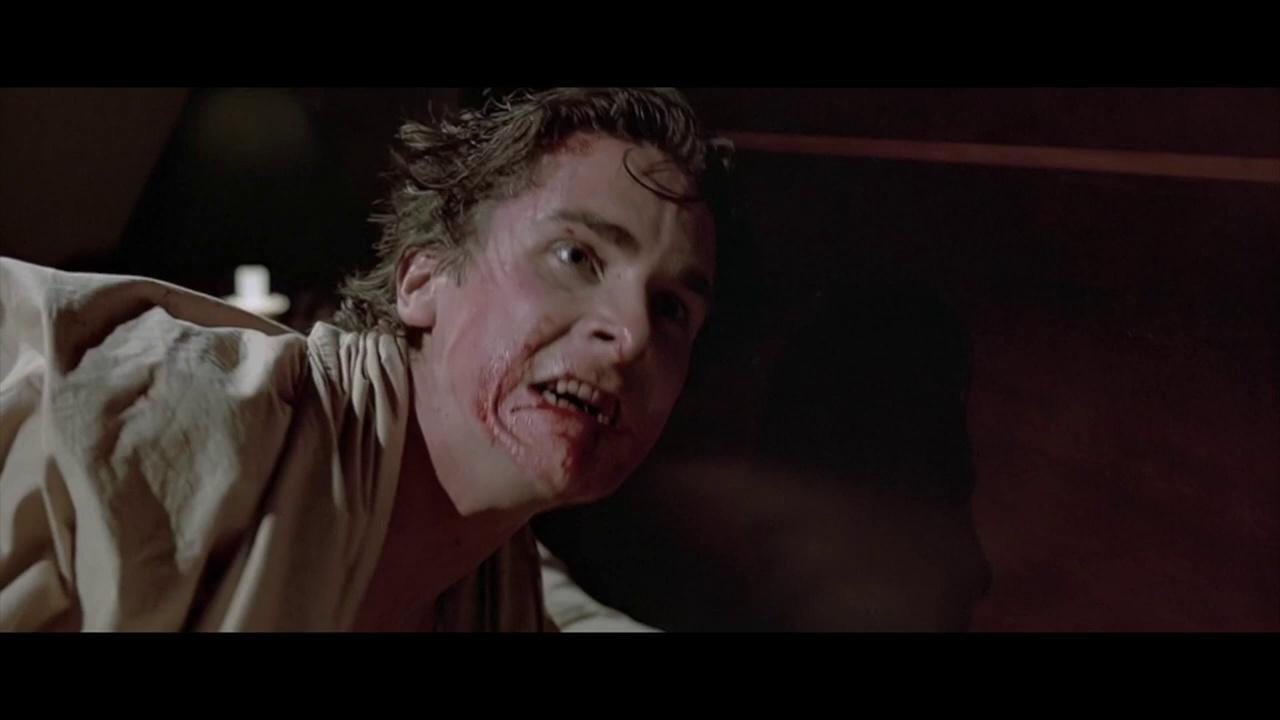Fire: (476, 340, 639, 492)
